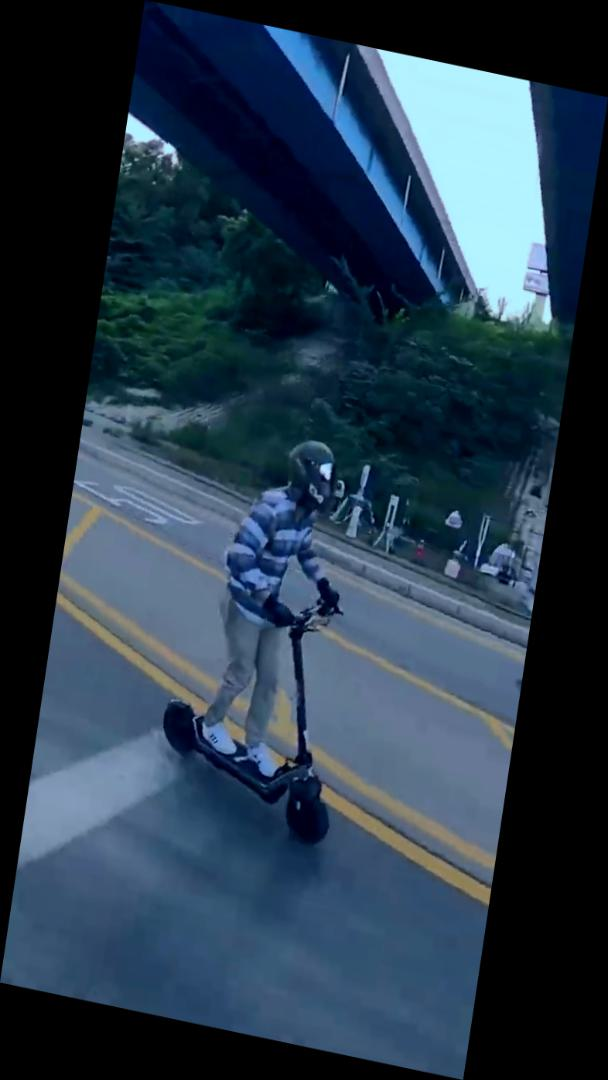helmet: (148, 417, 384, 849)
